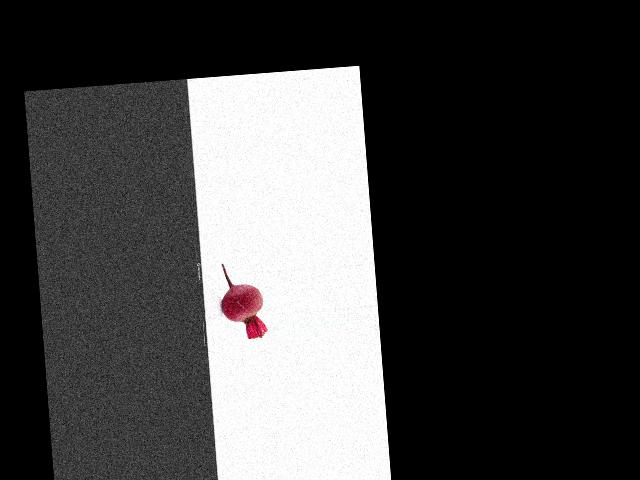beet: (218, 261, 267, 341)
